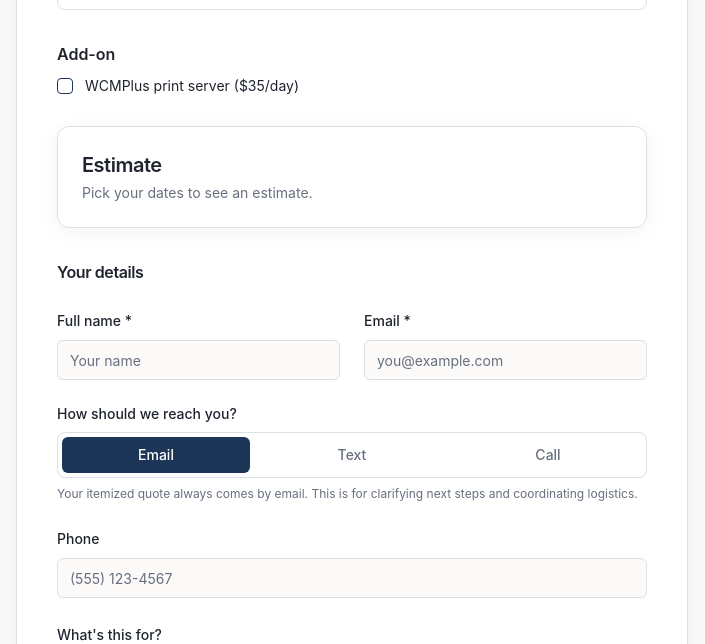
Test: RequestForm › requires dates before submitting
The width and height of the screenshot is (705, 644).
(page scrolled)
Step 1. Type "Sam K." into the field labelled "Full name *" → x=198, y=360, box [57,340,340,380]
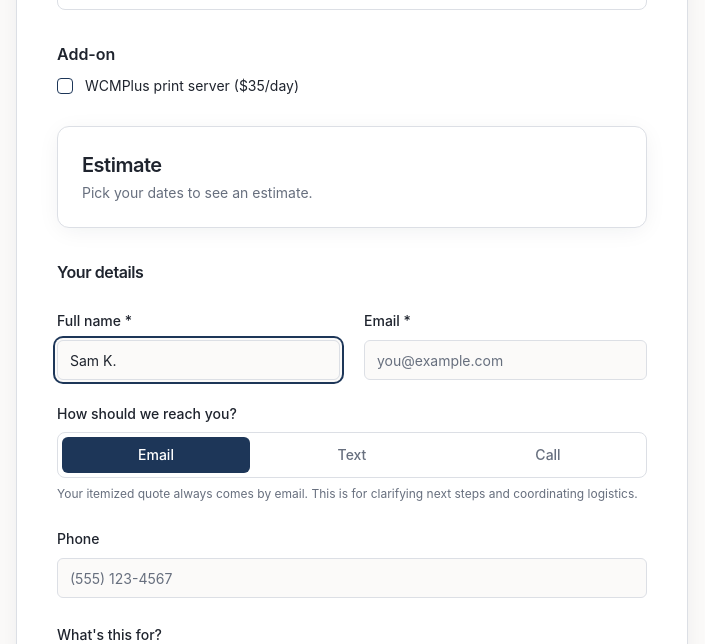
Step 2. Type "sam@example.com" into the field labelled "Email *" → x=506, y=360, box [364,340,647,380]
(page scrolled)
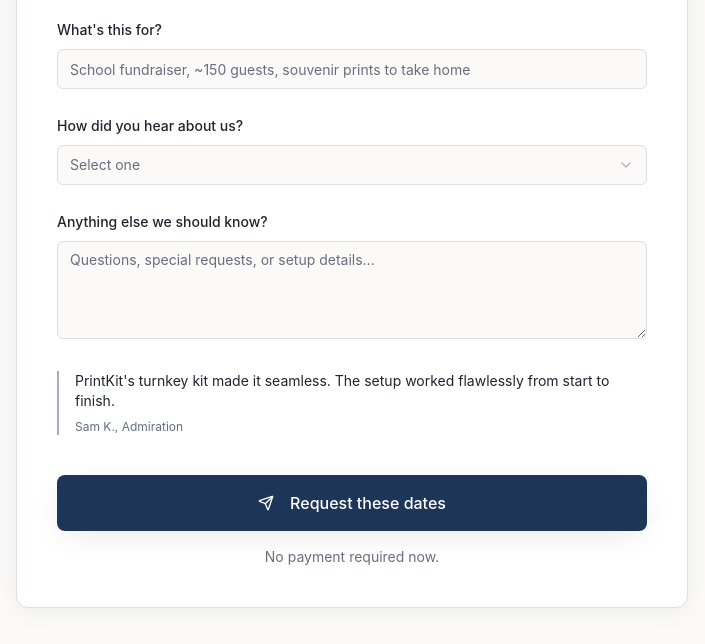
Step 3. Click the button "Request these dates" → x=352, y=503, box [57,475,647,531]
(page scrolled)
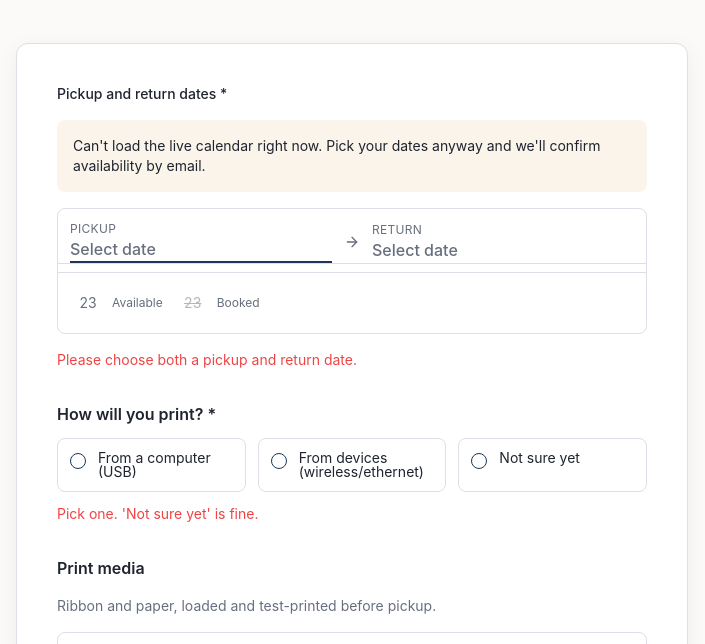
Check: the text "Please choose both a pickup and return date." is shown, box [57,351,357,368]
